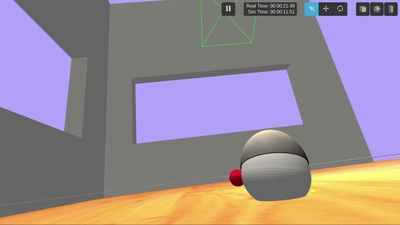mira_robot: (241, 129, 311, 201)
